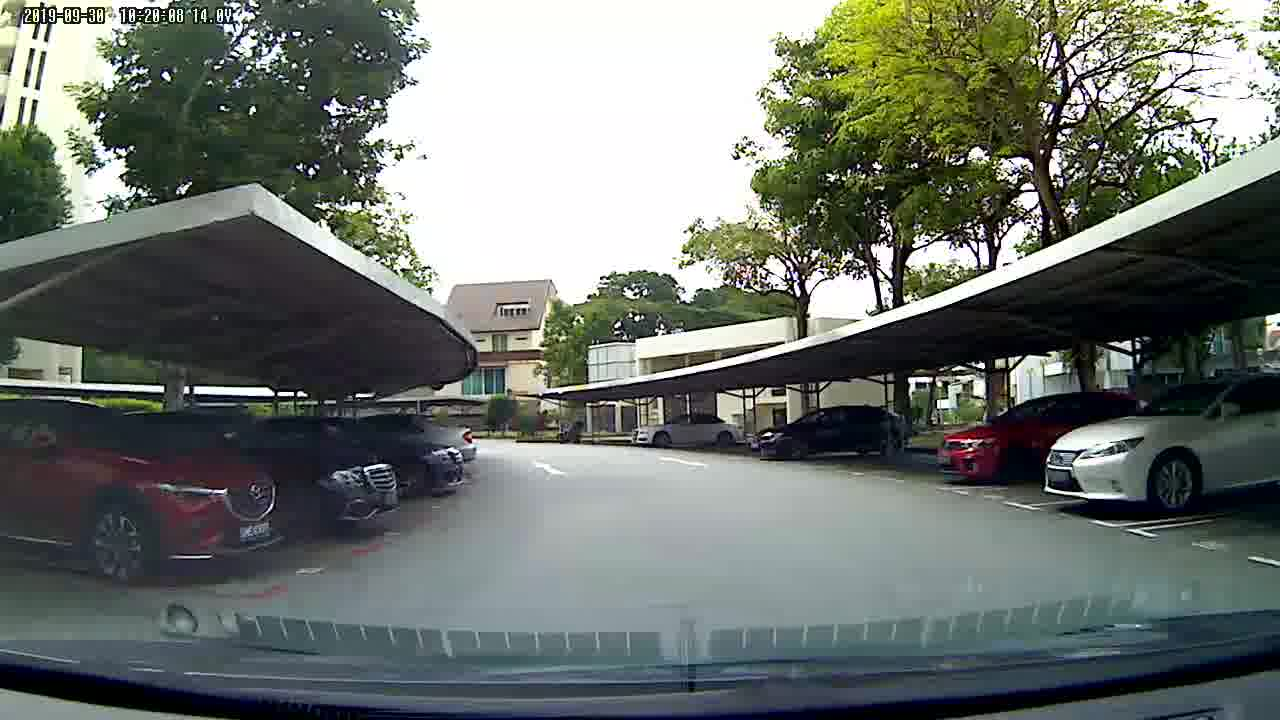car: (1, 397, 291, 585), (1034, 364, 1280, 511), (748, 401, 918, 475), (630, 407, 744, 449)
